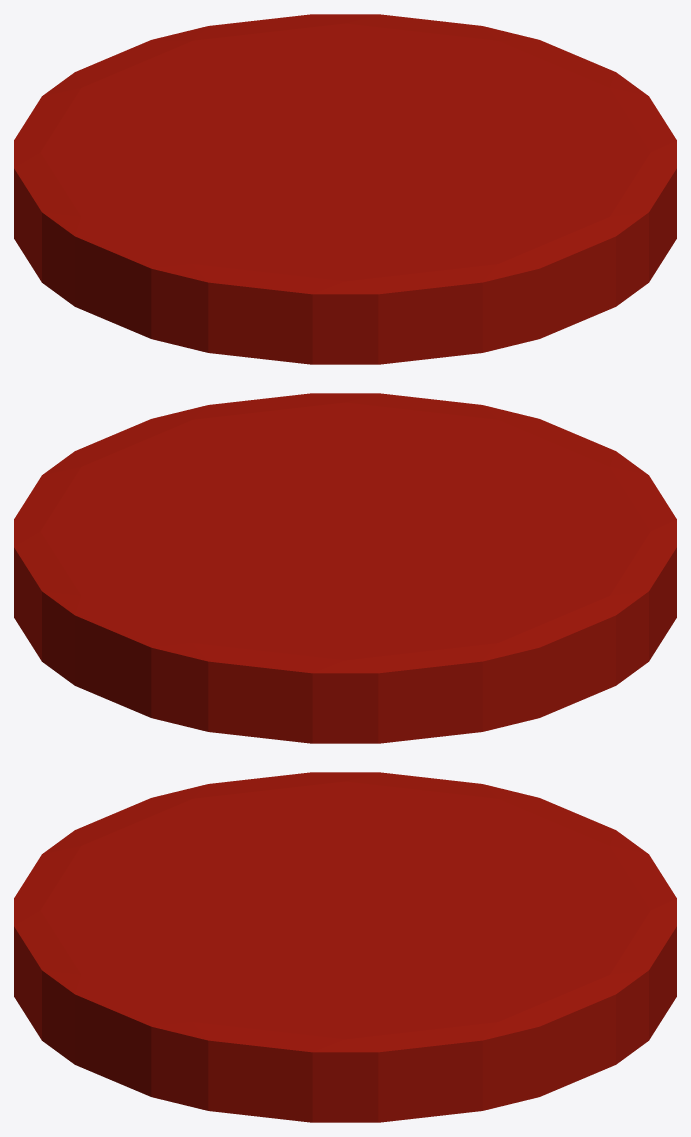
The model's file is Base_brazo.dae.
3 renders of one model, top to bottom at view 1: azimuth 30°, elevation 25°; view 2: azimuth 150°, elevation 25°; view 3: azimuth 270°, elevation 25°, orthographic.
Visible parts, largest first — view 1: node0; view 2: node0; view 3: node0.
Boxes of the visible parts, x1=… form: node0: x1=14, y1=14, x2=676, y2=364; node0: x1=14, y1=393, x2=676, y2=743; node0: x1=14, y1=772, x2=676, y2=1122.
Size of the model in its own units: 7.5 by 7.5 by 0.9264.
